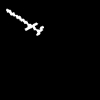double_crochet: (6, 9, 43, 34)
